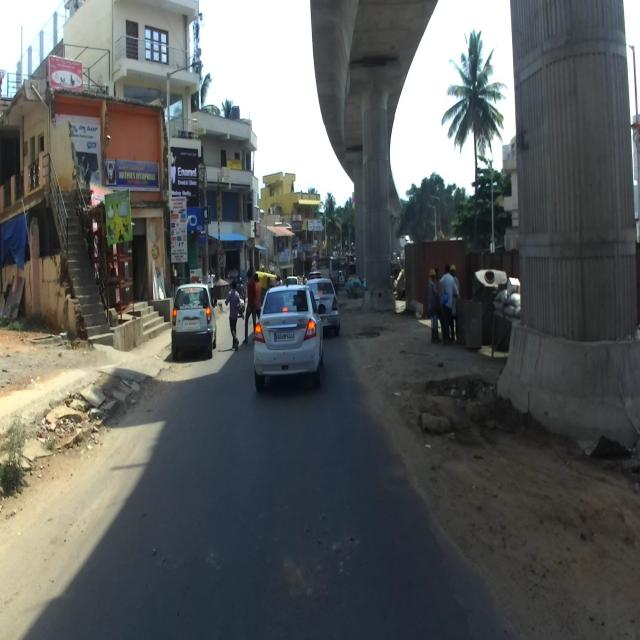car: (252, 284, 326, 392), (171, 280, 216, 361), (305, 278, 341, 338)
